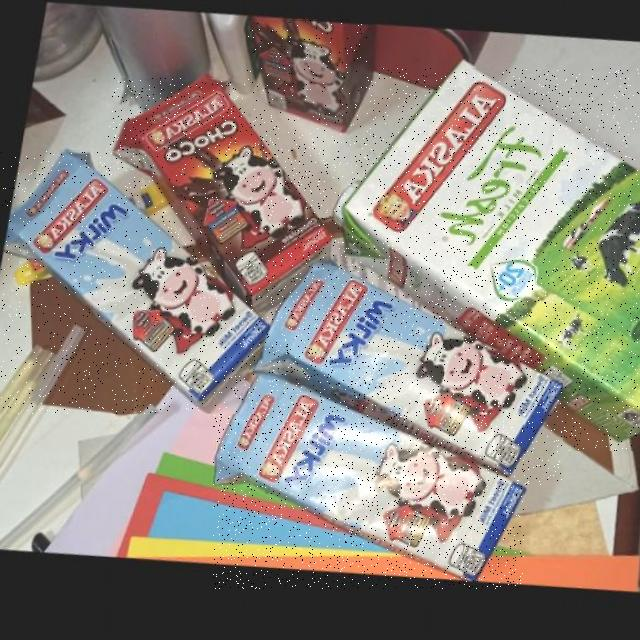paper: (331, 68, 639, 451), (1, 151, 268, 413), (250, 266, 563, 485), (214, 379, 524, 589), (109, 78, 329, 312), (247, 20, 371, 136)
